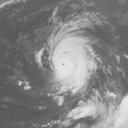cyclone: (33, 11, 105, 106)
